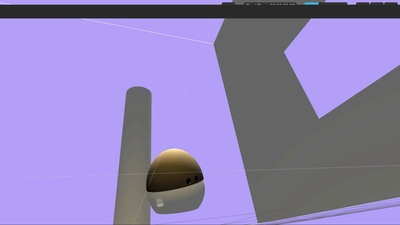mira_robot: (147, 149, 205, 215)
